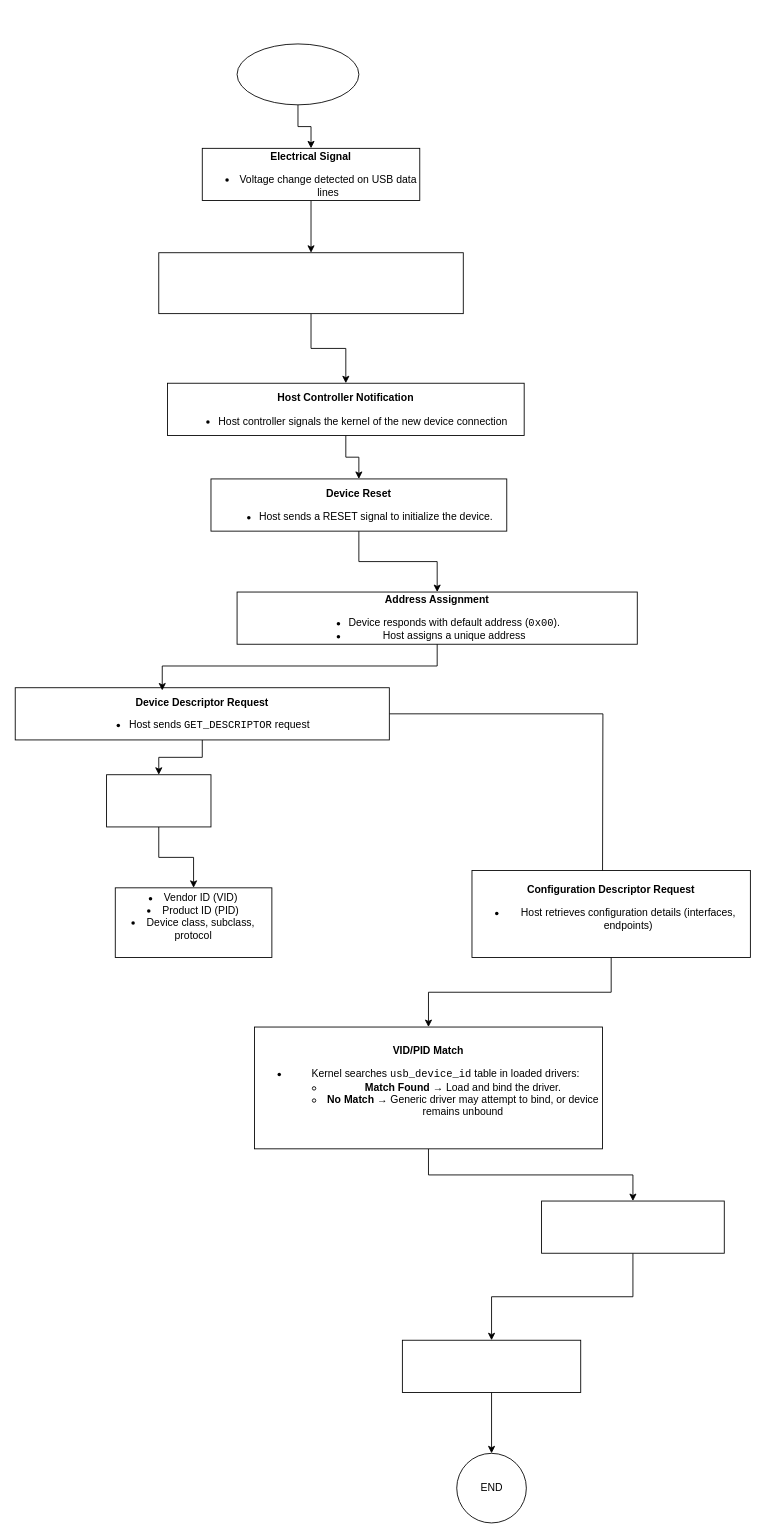
Some shapes in this 766 by 1538 pixel diagram are drawn without their labels. Each missing label, with the box of its shape:
Device provides: (106, 774, 211, 827)
Device Ready Device is available for user-space applications: (402, 1339, 581, 1392)
Driver Binding Driver’s probe function initializes the device: (541, 1200, 724, 1253)
Hub Detection USB hub detects the connection and notifies the host controller: (158, 252, 463, 314)
Start USB device is inserted into a port: (236, 43, 359, 105)
